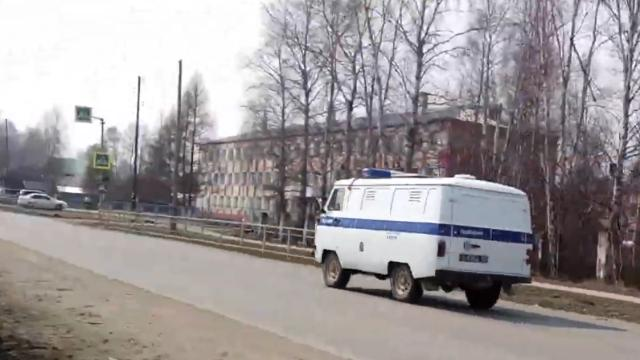non emergency car: (19, 190, 69, 214)
police car: (317, 167, 533, 312)
